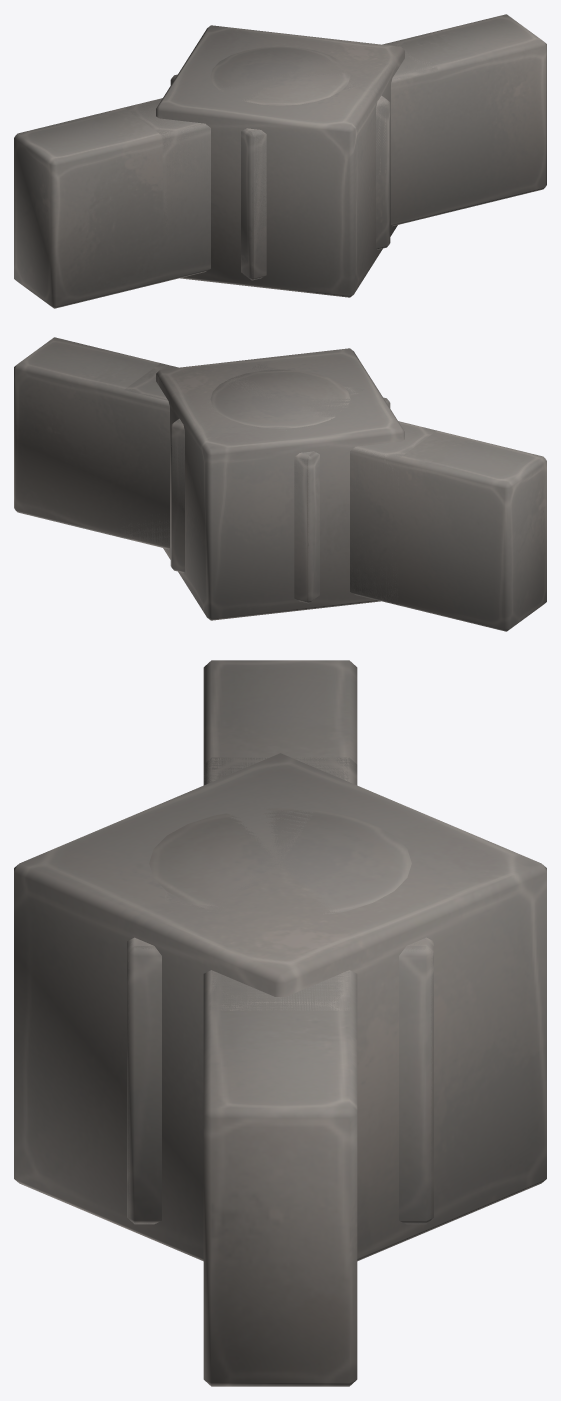
The model's file is dungeon1_modules1.fbx.
3 views of the same model, one above another, from view 1: azimuth 30°, elevation 25°; view 2: azimuth 150°, elevation 25°; view 3: azimuth 270°, elevation 25° (orthographic). The views are drawn at different scales.
Parts seen in each view (by area): view 1: wall_long_lowP.001, corner_lowP.001, pillar_round_lowP.001, wall_short_lowP.001, floorCube1_lowP.001, floorCube2_lowP.001; view 2: wall_long_lowP.001, corner_lowP.001, pillar_round_lowP.001, floorCube1_lowP.001, wall_short_lowP.001, floorCube2_lowP.001, floorCube1_lowP.002; view 3: corner_lowP.001, wall_long_lowP.001, pillar_round_lowP.001, floorCube1_lowP.001, wall_short_lowP.001, floorCube2_lowP.001.
Boxes of the visible parts, x1,y1,x2,y2 form: wall_long_lowP.001: [14, 14, 546, 308]; corner_lowP.001: [156, 25, 404, 297]; pillar_round_lowP.001: [210, 46, 350, 105]; wall_short_lowP.001: [124, 40, 437, 282]; floorCube1_lowP.001: [170, 77, 390, 279]; floorCube2_lowP.001: [173, 74, 389, 279]; wall_long_lowP.001: [14, 337, 546, 631]; corner_lowP.001: [156, 348, 404, 620]; pillar_round_lowP.001: [210, 369, 350, 428]; floorCube1_lowP.001: [170, 400, 390, 602]; wall_short_lowP.001: [122, 363, 436, 605]; floorCube2_lowP.001: [171, 397, 388, 603]; floorCube1_lowP.002: [170, 419, 310, 603]; corner_lowP.001: [14, 753, 546, 1261]; wall_long_lowP.001: [203, 660, 357, 1386]; pillar_round_lowP.001: [149, 808, 411, 914]; floorCube1_lowP.001: [127, 937, 432, 1223]; wall_short_lowP.001: [203, 757, 357, 1013]; floorCube2_lowP.001: [127, 938, 433, 1224].
Bounding box in the file's own units: 700 × 230 × 347.
